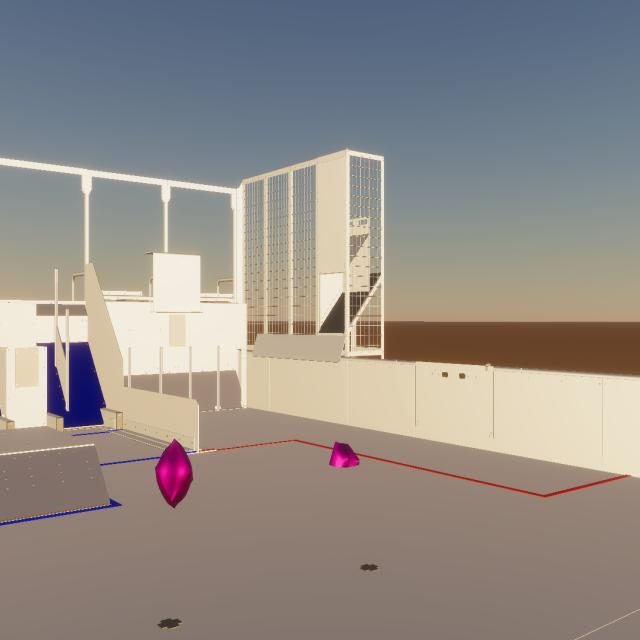frc_cube: (155, 438, 193, 508), (329, 442, 360, 468)
